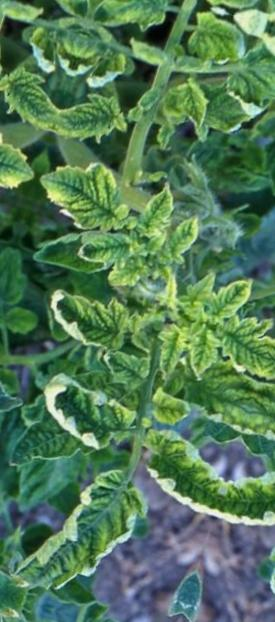Tomato leaf yellow virus: (0, 444, 154, 622), (24, 145, 145, 247), (128, 415, 239, 520), (28, 373, 137, 458), (38, 280, 136, 356), (51, 79, 131, 155), (175, 3, 256, 77), (202, 308, 275, 388), (177, 322, 231, 386)
